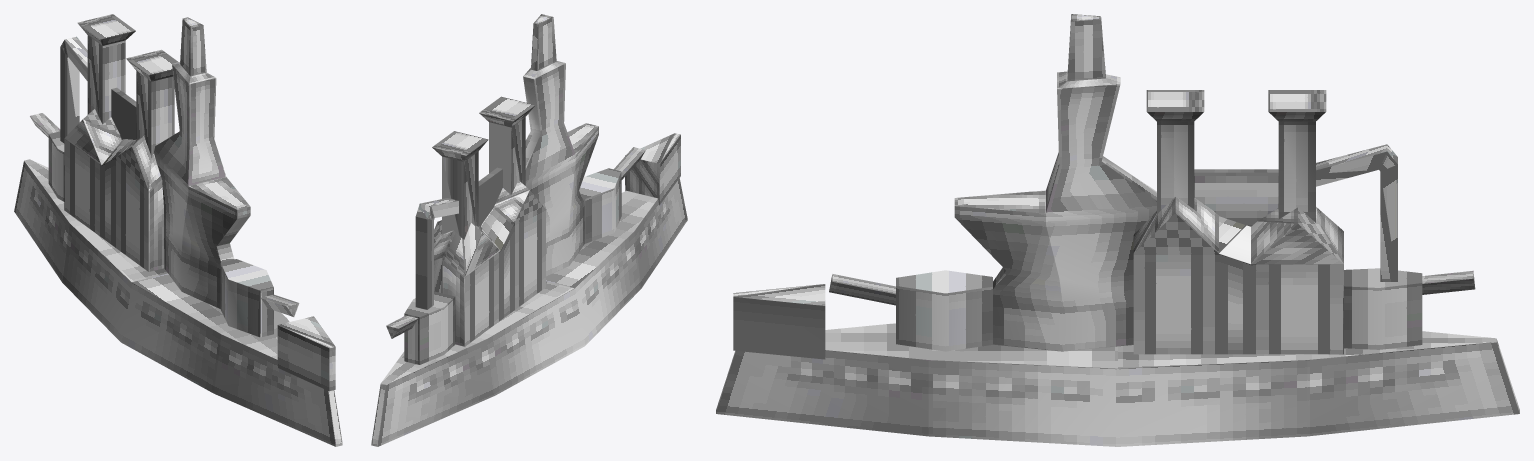
Rendered from 3D_Ship_anm_Tpose.obj.
3 views of the same model, side by side, from view 1: azimuth 30°, elevation 25°; view 2: azimuth 150°, elevation 25°; view 3: azimuth 270°, elevation 25° (orthographic). The views are drawn at different scales.
Parts seen in each view (by area): view 1: 3D_Ship_anm_Tpose; view 2: 3D_Ship_anm_Tpose; view 3: 3D_Ship_anm_Tpose.
Part boxes in pixels (bbox=[...]): 3D_Ship_anm_Tpose: bbox=[14, 14, 342, 446]; 3D_Ship_anm_Tpose: bbox=[371, 14, 687, 446]; 3D_Ship_anm_Tpose: bbox=[716, 14, 1519, 446].
Size of the model in its own units: 1.05 by 2.74 by 5.07.
1 material, 1 textured.
